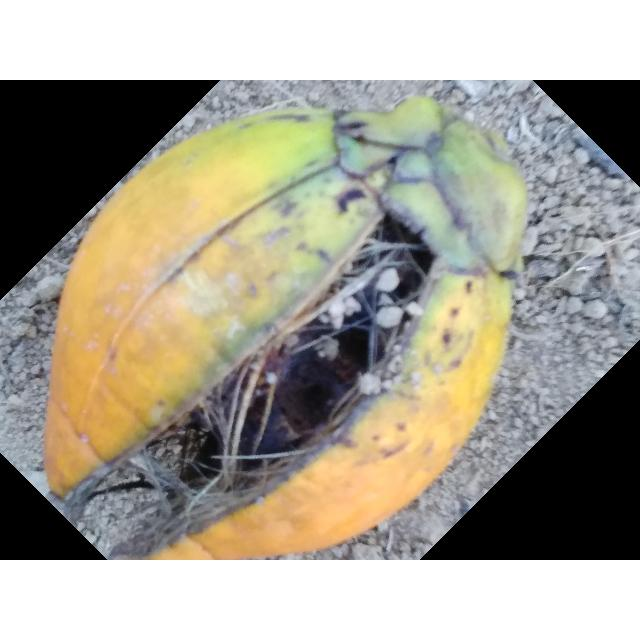damaged: (44, 96, 527, 560)
